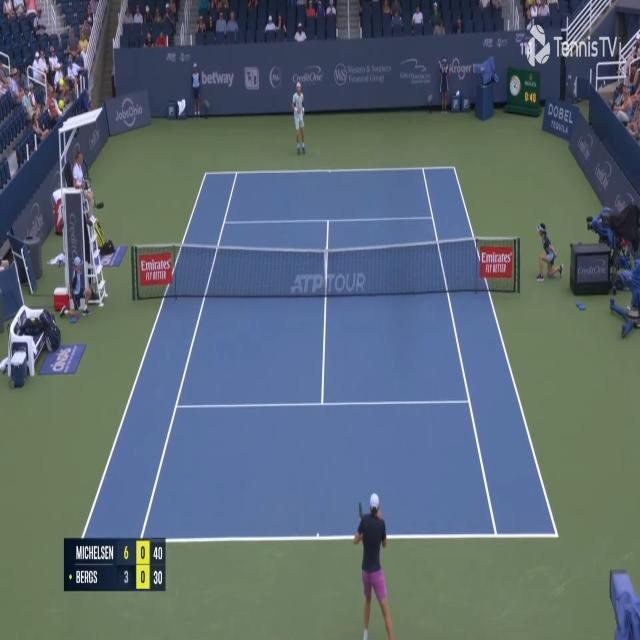tennis-player: (352, 489, 399, 639), (291, 80, 308, 156)
